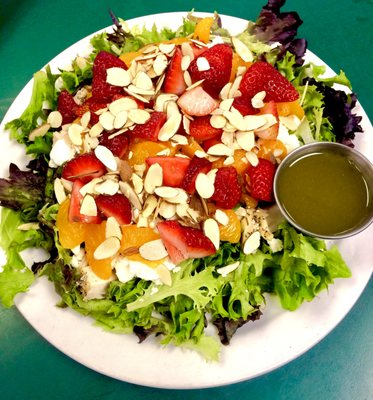curry: (270, 223, 352, 312)
sushi: (273, 142, 372, 241)
